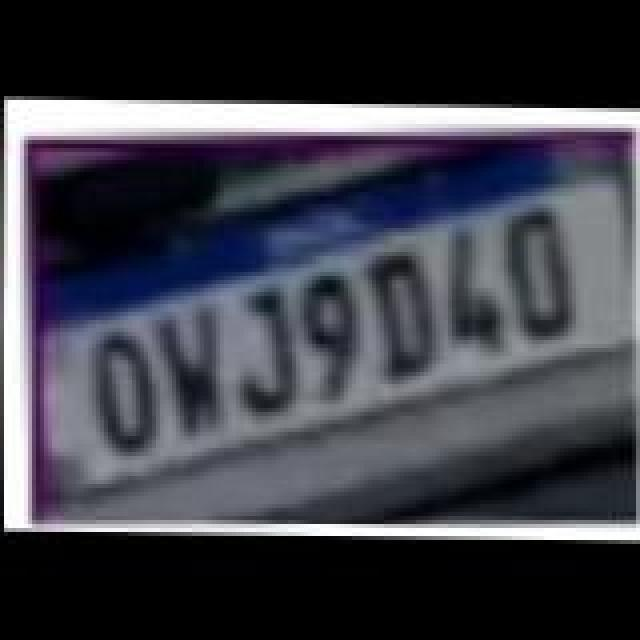4: (440, 228, 508, 352)
9: (298, 276, 370, 404)
D: (364, 254, 448, 382), (504, 210, 580, 342)
J: (234, 290, 306, 422)
O: (92, 334, 164, 458)
W: (156, 306, 232, 442)
